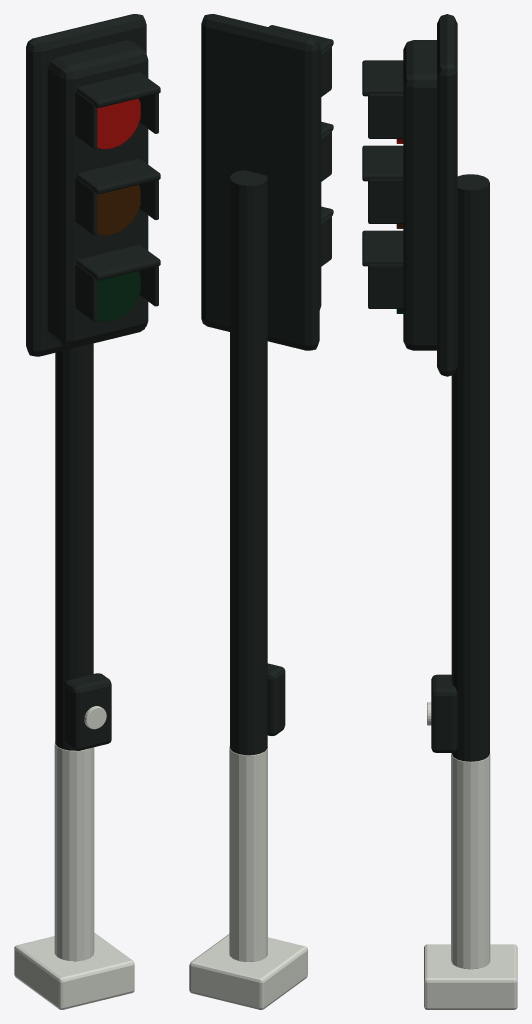
File: edited.glb
3 renders of one model, left to right at view 1: azimuth 30°, elevation 25°; view 2: azimuth 150°, elevation 25°; view 3: azimuth 270°, elevation 25°, orthographic.
Visible parts, largest first — view 1: VEHICLE_Housing, POLE_Main, VEHICLE_Backplate, POLE_PaleLower, BASE_Footing, BUTTON_Housing, VEHICLE_VisorTop, VEHICLE_VisorTop.002, VEHICLE_VisorTop.001, VEHICLE_Lens_2, VEHICLE_Lens_1, VEHICLE_Lens_0 (+7 smaller); view 2: VEHICLE_Backplate, POLE_Main, POLE_PaleLower, BASE_Footing, BUTTON_Housing, VEHICLE_Housing, VEHICLE_VisorSide, VEHICLE_VisorSide.002, VEHICLE_VisorSide.004; view 3: POLE_Main, VEHICLE_Housing, POLE_PaleLower, VEHICLE_Backplate, BASE_Footing, BUTTON_Housing, VEHICLE_VisorSide.001, VEHICLE_VisorSide.003, VEHICLE_VisorSide.005, VEHICLE_VisorTop.002, VEHICLE_VisorTop.001, VEHICLE_VisorTop.
Boxes of the visible parts, x1,y1,x2,y2 form: VEHICLE_Housing: (47,40,148,346); POLE_Main: (55,343,93,750); VEHICLE_Backplate: (26,14,146,356); POLE_PaleLower: (54,741,94,961); BASE_Footing: (14,932,134,1009); BUTTON_Housing: (64,673,111,750); VEHICLE_VisorTop: (76,72,160,107); VEHICLE_VisorTop.002: (76,245,160,280); VEHICLE_VisorTop.001: (76,158,160,194); VEHICLE_Lens_2: (97,271,140,321); VEHICLE_Lens_1: (97,184,140,235); VEHICLE_Lens_0: (97,98,140,149); VEHICLE_Backplate: (201,14,319,350); POLE_Main: (230,170,267,755); POLE_PaleLower: (229,746,267,961); BASE_Footing: (189,934,307,1009); BUTTON_Housing: (267,663,285,735); VEHICLE_Housing: (318,43,321,309); VEHICLE_VisorSide: (321,45,331,96); VEHICLE_VisorSide.002: (321,130,331,181); VEHICLE_VisorSide.004: (321,215,331,266); POLE_Main: (451,174,489,761); VEHICLE_Housing: (403,40,436,350); POLE_PaleLower: (451,753,490,969); VEHICLE_Backplate: (437,14,457,376); BASE_Footing: (424,944,517,1009); BUTTON_Housing: (431,674,457,752); VEHICLE_VisorSide.001: (368,94,403,138); VEHICLE_VisorSide.003: (368,179,403,223); VEHICLE_VisorSide.005: (368,264,403,308); VEHICLE_VisorTop.002: (362,230,403,266); VEHICLE_VisorTop.001: (362,145,403,181); VEHICLE_VisorTop: (362,60,403,96).
Size of the model in its own units: 0.46 by 3.59 by 0.53.
